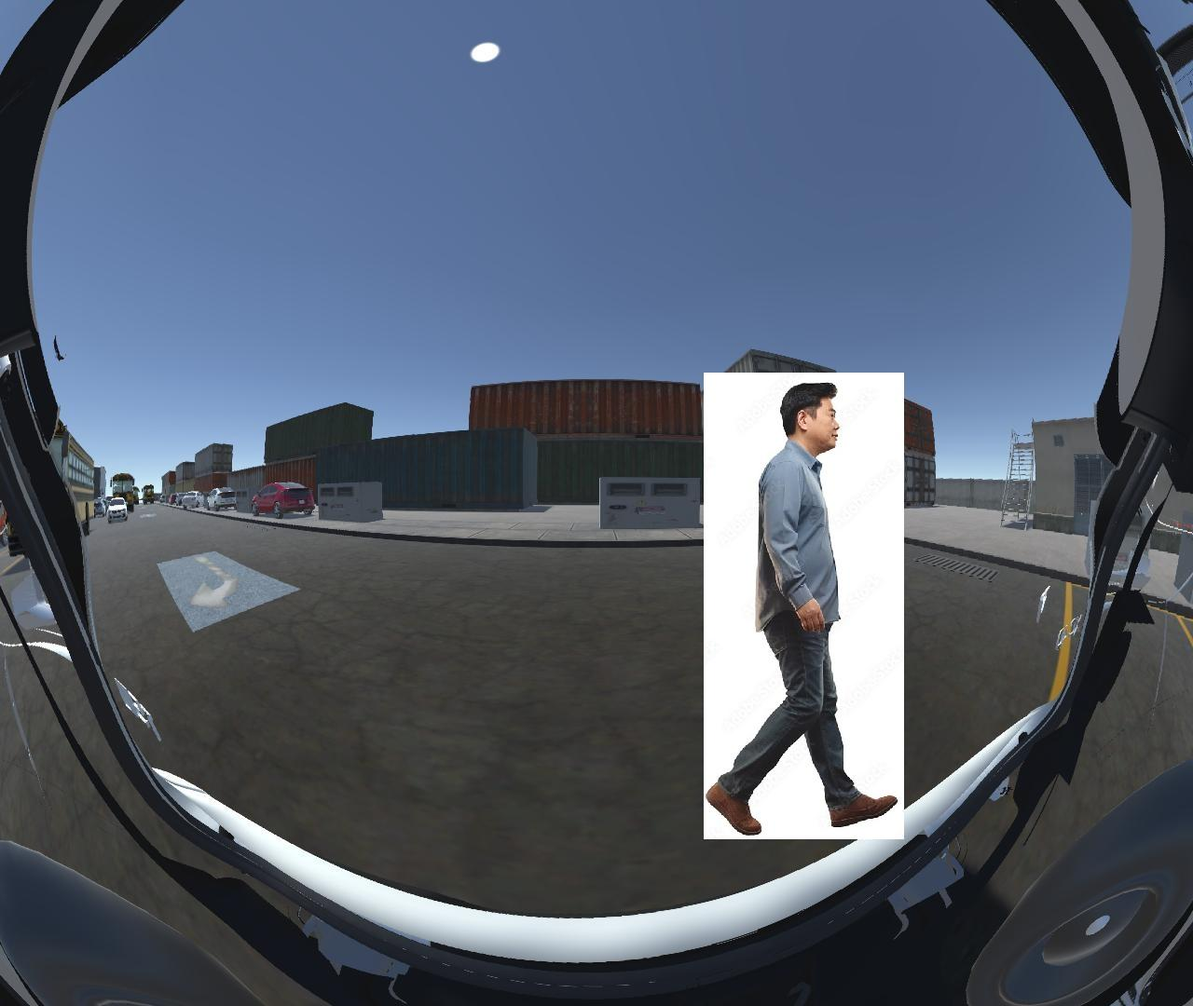objects: (705, 378, 902, 833)
